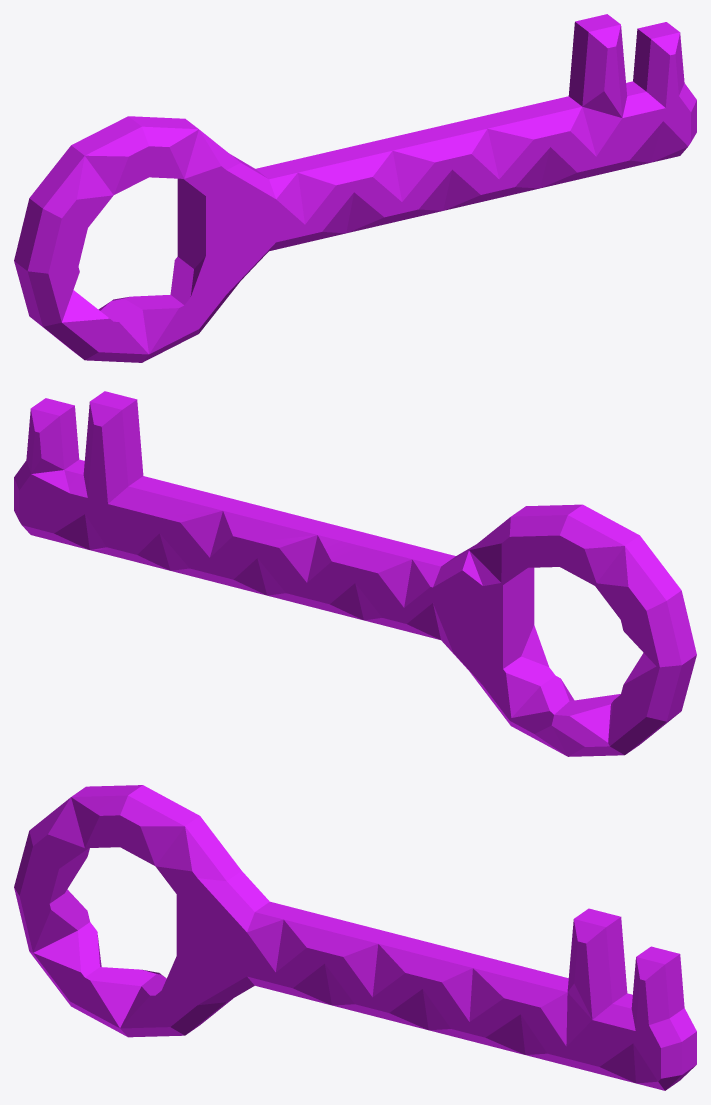
Rendered from pink.glb.
The picture shows the model from 3 angles, top to bottom: view 1: azimuth 30°, elevation 25°; view 2: azimuth 150°, elevation 25°; view 3: azimuth 330°, elevation 25°; orthographic projection. The views are drawn at different scales.
Visible parts, largest first — view 1: Circle.024; view 2: Circle.024; view 3: Circle.024.
Boxes of the visible parts, left/top/right/bottom form: Circle.024: left=14, top=14, right=696, bottom=362; Circle.024: left=14, top=391, right=696, bottom=756; Circle.024: left=14, top=785, right=696, bottom=1090.
Bounding box in the file's own units: 1.89 × 0.6454 × 0.2163.
Materials: 1 (1 with a texture image).
